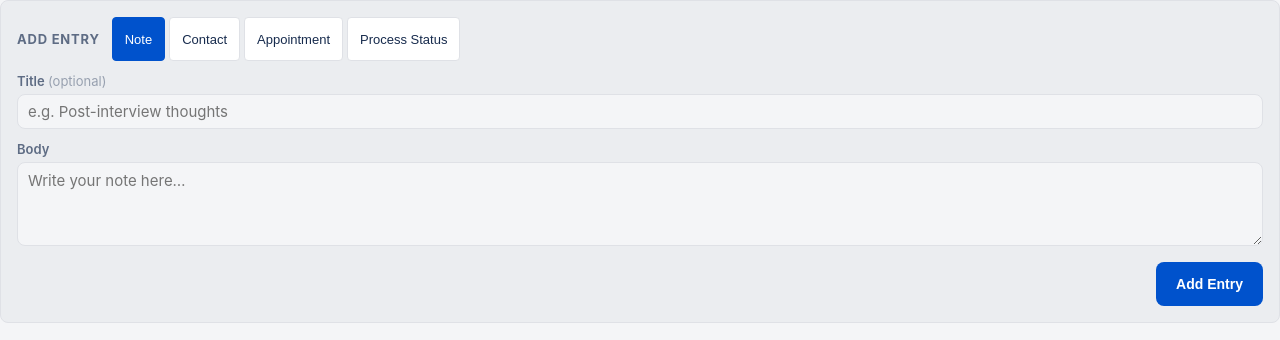
Scenario: AddEntryForm › shows a process status select when Process Status tab is clicked
Step 1. Click the button "Process Status" → [404, 39], box [347,17,460,61]
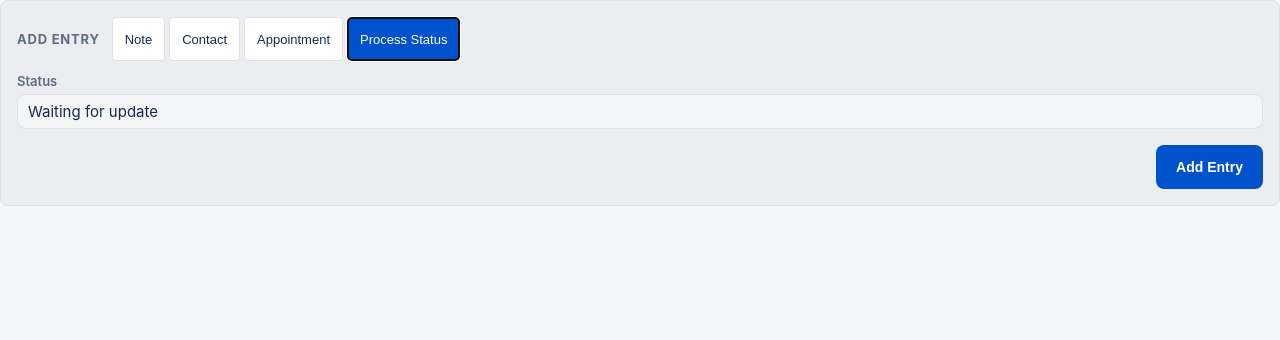
Result: the dropdown is shown at [17,94,1263,129]
